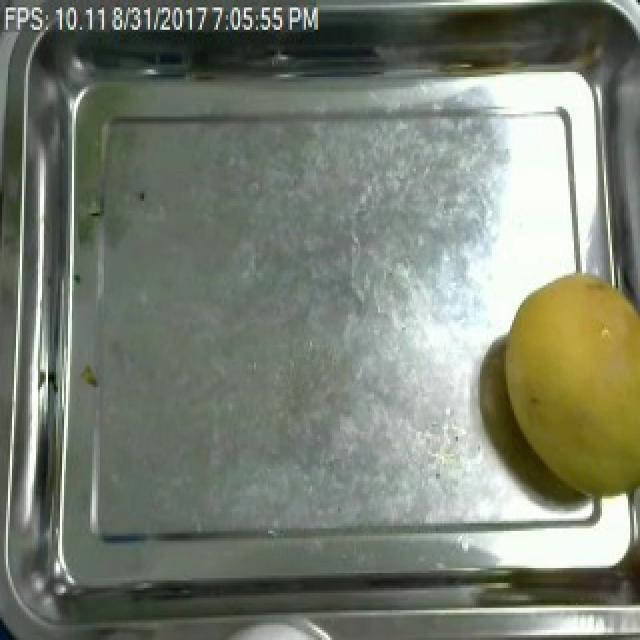fruit: (488, 268, 640, 511)
